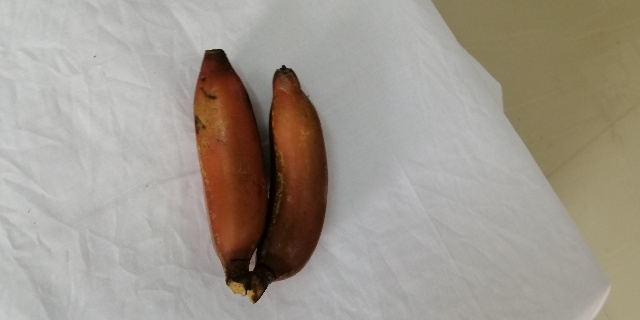banana_red: (241, 66, 327, 301), (191, 49, 270, 299)
